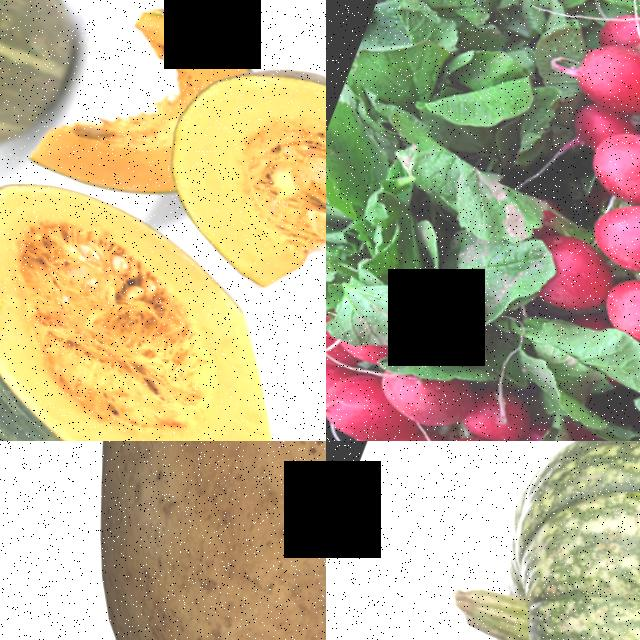potato: (0, 441, 326, 640)
pumpkin: (0, 137, 326, 441), (129, 19, 326, 331), (381, 441, 640, 640), (21, 0, 226, 211)
radishes: (326, 253, 565, 441), (477, 175, 640, 441), (516, 0, 640, 267), (448, 0, 635, 47)
